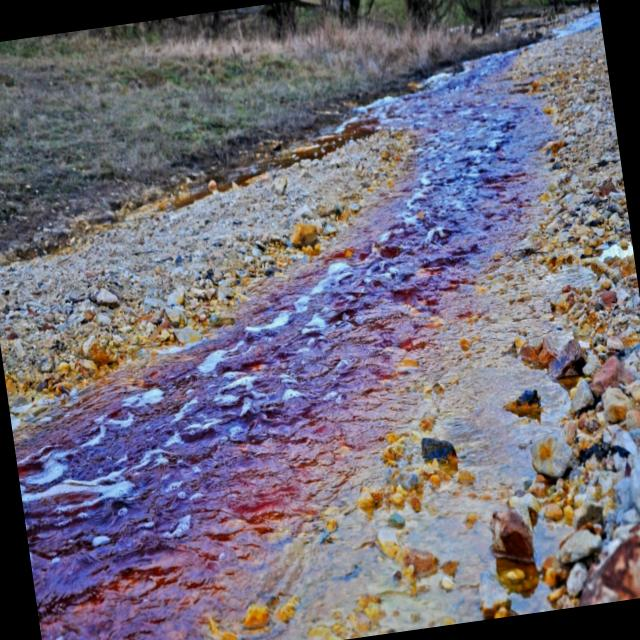yellow_boy: (14, 64, 528, 640)
